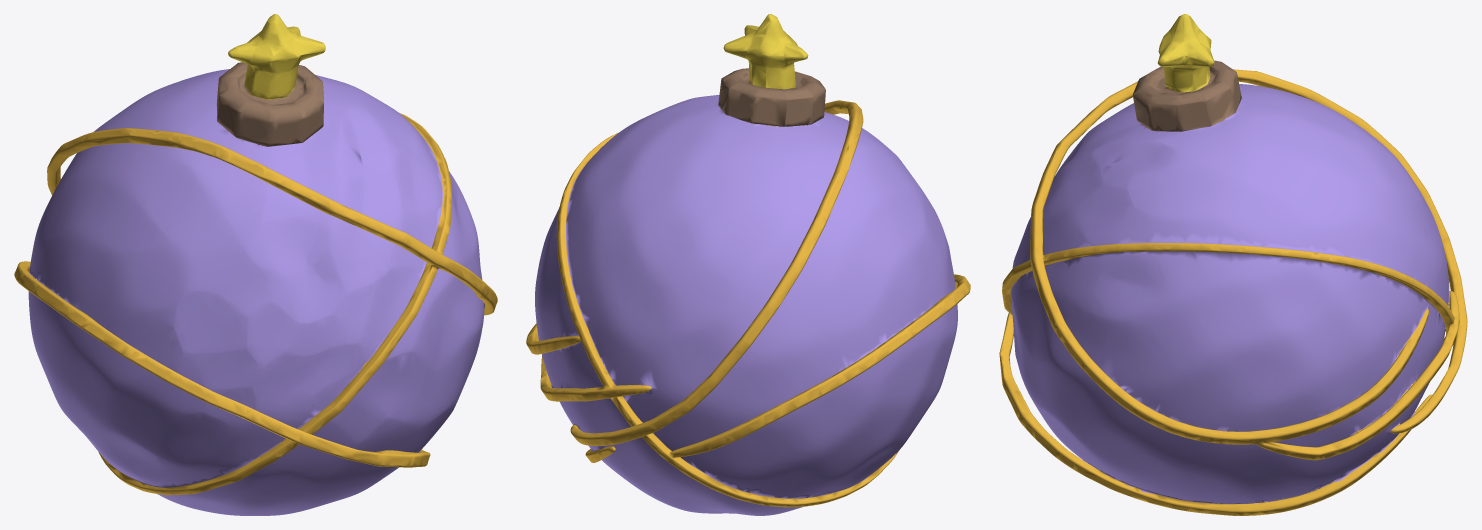
File: NEW POTION 1.fbx
3 renders of one model, left to right at view 1: azimuth 30°, elevation 25°; view 2: azimuth 150°, elevation 25°; view 3: azimuth 270°, elevation 25°, orthographic. The views are drawn at different scales.
Parts seen in each view (by area): view 1: POTION 1; view 2: POTION 1; view 3: POTION 1.
Boxes of the visible parts, left/top/right/bottom form: POTION 1: left=14, top=14, right=497, bottom=515; POTION 1: left=526, top=14, right=970, bottom=515; POTION 1: left=999, top=14, right=1467, bottom=515.
Bounding box in the file's own units: 44.39 × 52.35 × 46.49.
